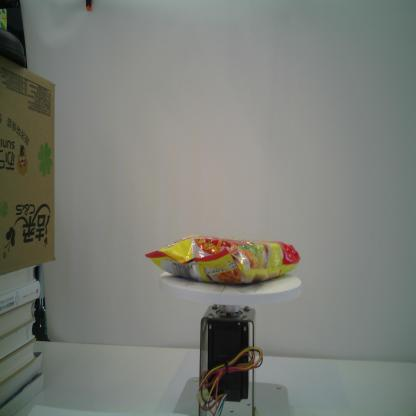Instant Noodles: (145, 234, 301, 284)
